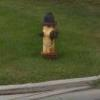Hydrant: (34, 8, 65, 66)
